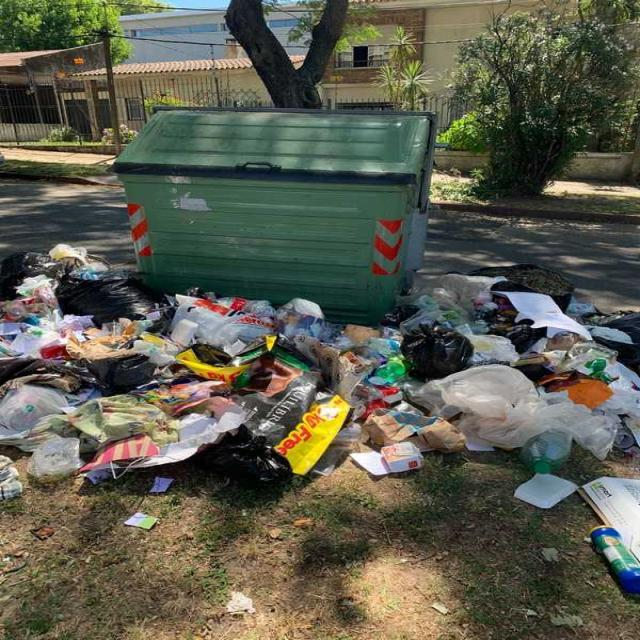garbage: (0, 286, 639, 596), (5, 224, 120, 293)
